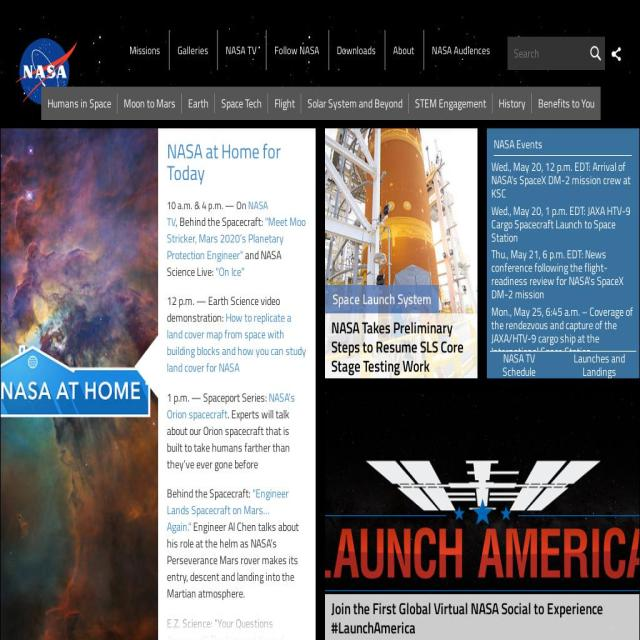button: (320, 391, 640, 640), (320, 128, 482, 391), (0, 17, 95, 128), (491, 248, 635, 302), (491, 305, 635, 359), (491, 362, 635, 416), (166, 140, 307, 183), (491, 159, 635, 200), (491, 203, 635, 244), (423, 17, 499, 83), (266, 17, 328, 83), (328, 17, 384, 83), (301, 87, 408, 120), (217, 17, 266, 83), (324, 285, 439, 313), (120, 17, 168, 83), (169, 17, 217, 83), (408, 87, 493, 120), (384, 17, 424, 83), (41, 87, 118, 120), (531, 87, 601, 120), (117, 87, 182, 120), (562, 352, 637, 378), (214, 87, 268, 120), (489, 352, 549, 378), (492, 87, 532, 120), (181, 87, 215, 120), (268, 87, 302, 120)
field: (507, 36, 605, 70), (586, 40, 605, 66)
heading: (166, 140, 307, 183), (493, 137, 632, 150)
image: (1, 128, 158, 640), (13, 34, 82, 111), (607, 38, 627, 69)
link: (166, 308, 306, 377), (166, 212, 306, 263), (166, 484, 289, 536), (166, 388, 295, 422), (166, 196, 268, 230), (213, 262, 244, 280)
text: (324, 594, 640, 640), (166, 518, 299, 602), (166, 404, 290, 473), (331, 315, 464, 377), (166, 245, 282, 280), (166, 292, 280, 326), (166, 613, 304, 640), (166, 387, 269, 406), (166, 484, 252, 503), (179, 212, 265, 230), (166, 196, 248, 213), (432, 42, 490, 58), (274, 42, 320, 58), (336, 42, 376, 58), (129, 42, 160, 58), (178, 42, 208, 58), (226, 42, 256, 58), (394, 42, 414, 58), (175, 212, 179, 230)
